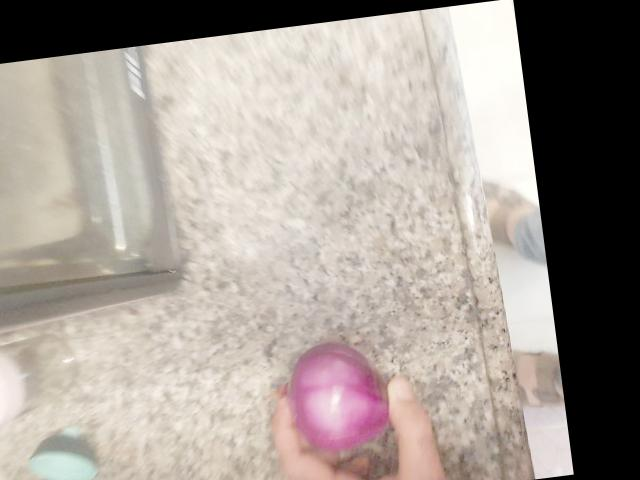onion: (194, 30, 328, 156)
